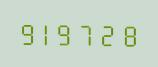eight: (118, 20, 137, 48)
nine: (17, 18, 36, 46), (58, 19, 77, 46)
one: (37, 19, 56, 46)
seven: (78, 19, 97, 47)
two: (98, 20, 117, 47)
